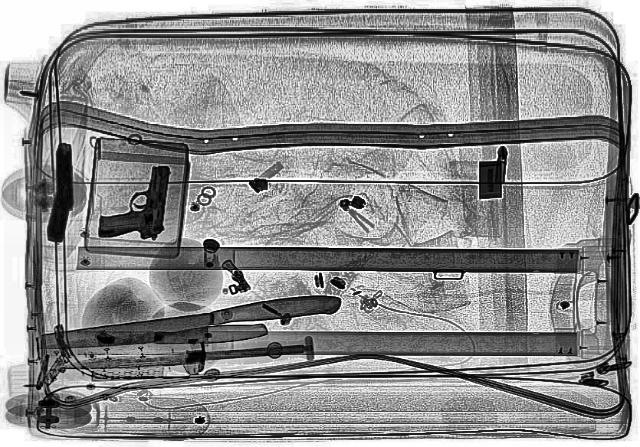Gun: (95, 162, 172, 242), (46, 143, 76, 243)
Knife: (27, 291, 353, 379), (57, 342, 305, 374), (38, 322, 268, 348)
